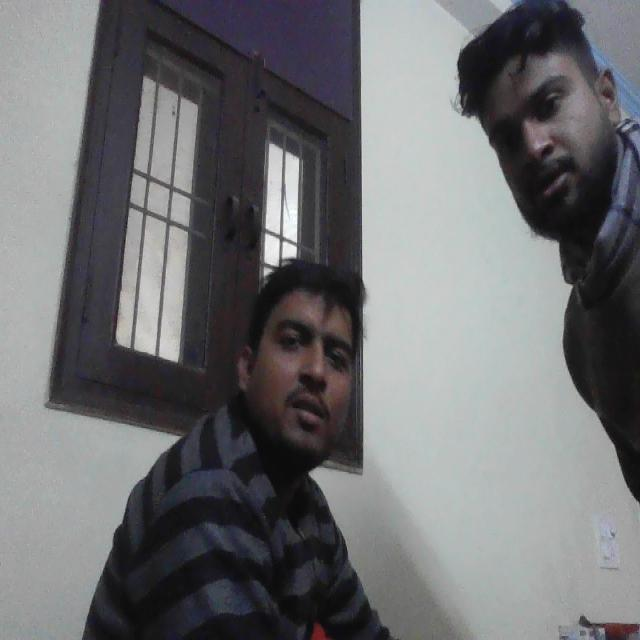real: (491, 0, 617, 237), (243, 245, 359, 464)
